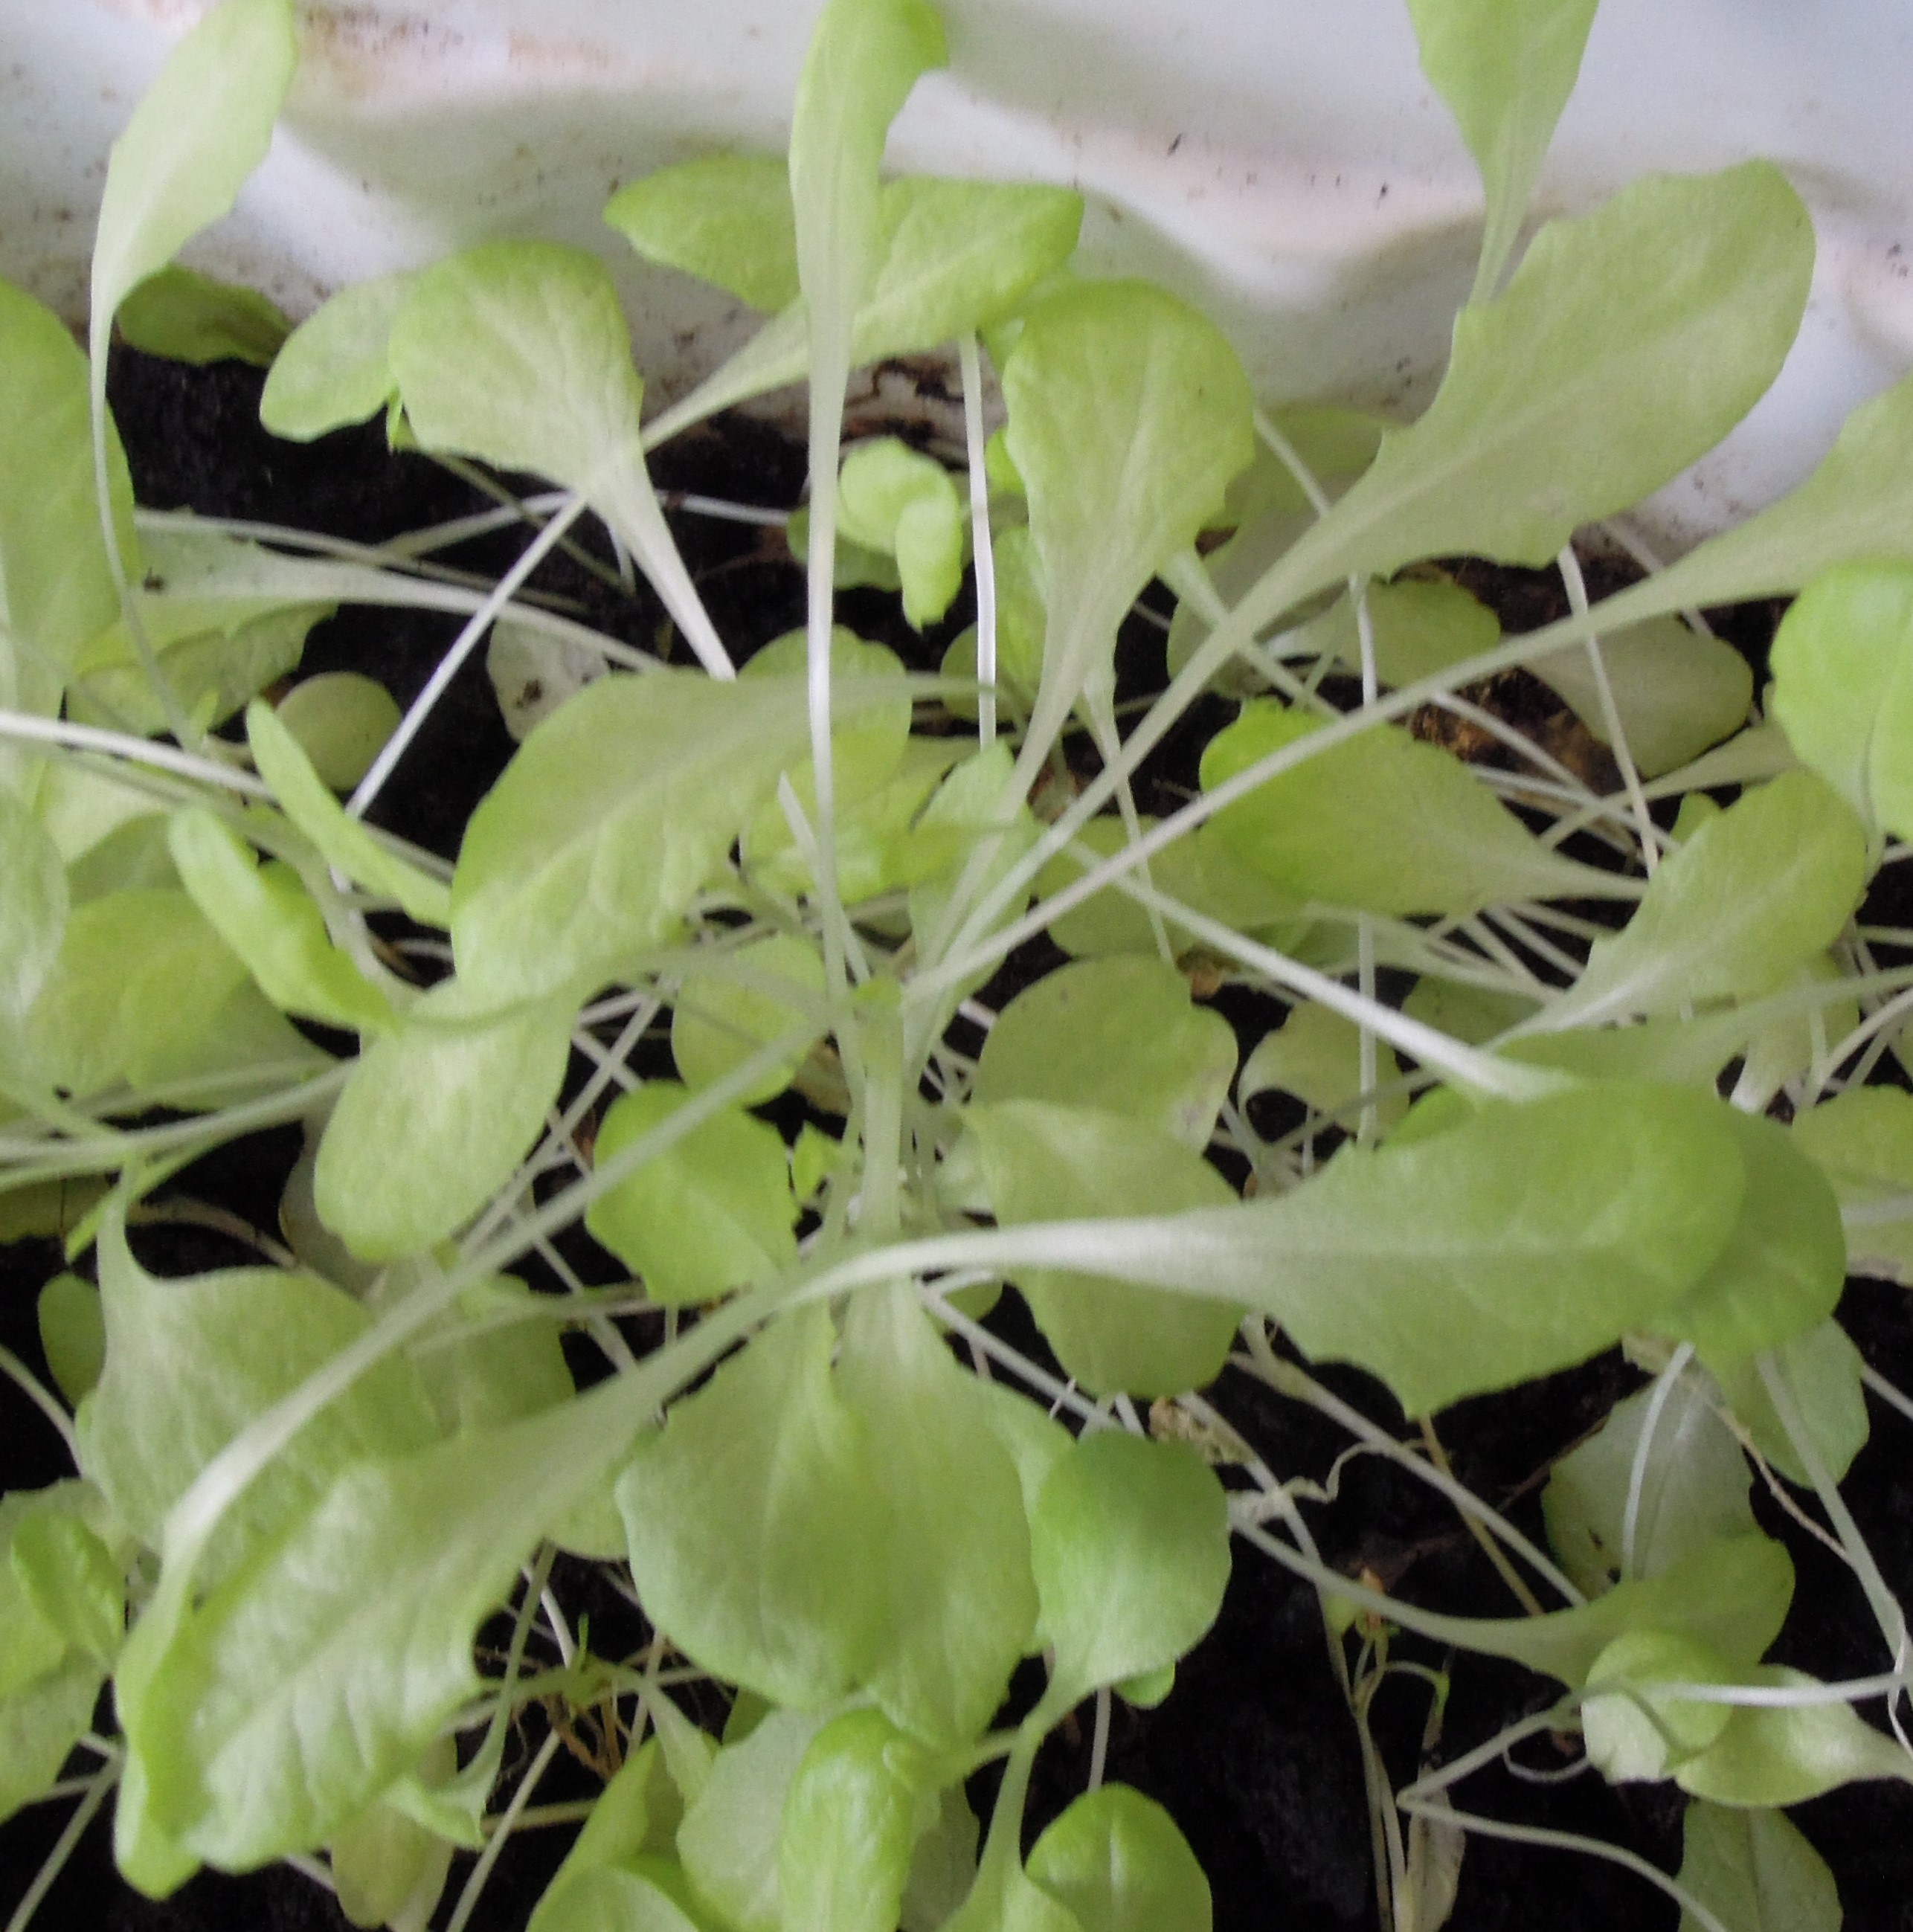weeek6: (103, 147, 1894, 1895)
